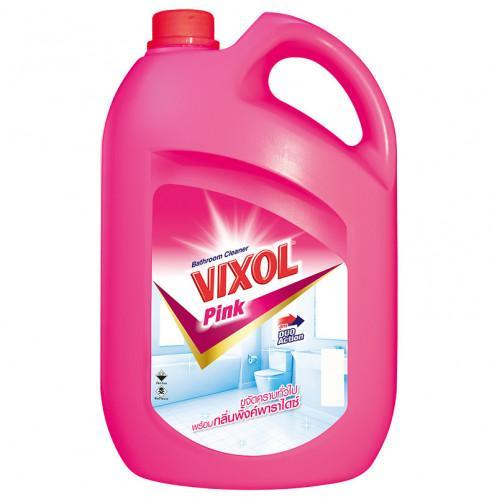Cleaning_solution: (89, 2, 404, 497)
